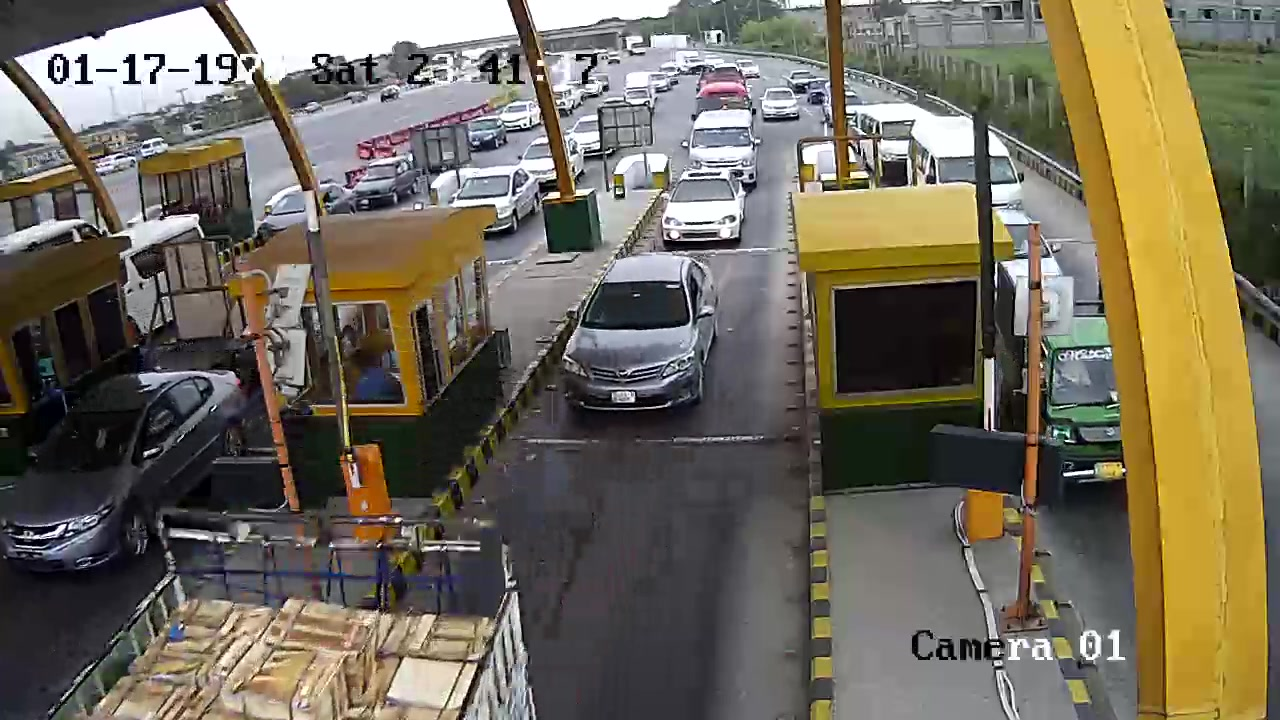F1: (547, 252, 734, 429)
